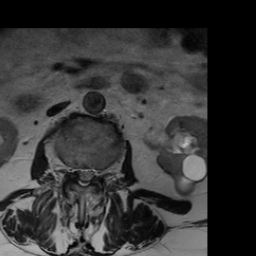CCS_normal: (80, 158, 88, 194)
LFS_normal: (95, 158, 102, 185)
LLS_normal: (88, 158, 95, 189)
RFS_stenosis: (66, 156, 74, 182)
RLS_stenosis: (74, 158, 80, 184)
